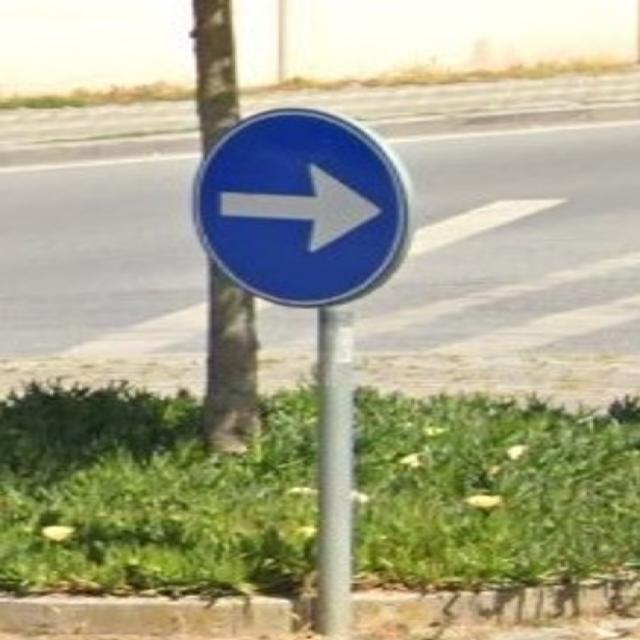Turn Right: (172, 107, 417, 314)
